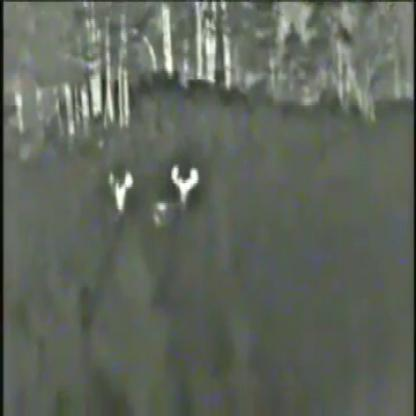rehkitze: (165, 163, 199, 220), (107, 167, 134, 212)
